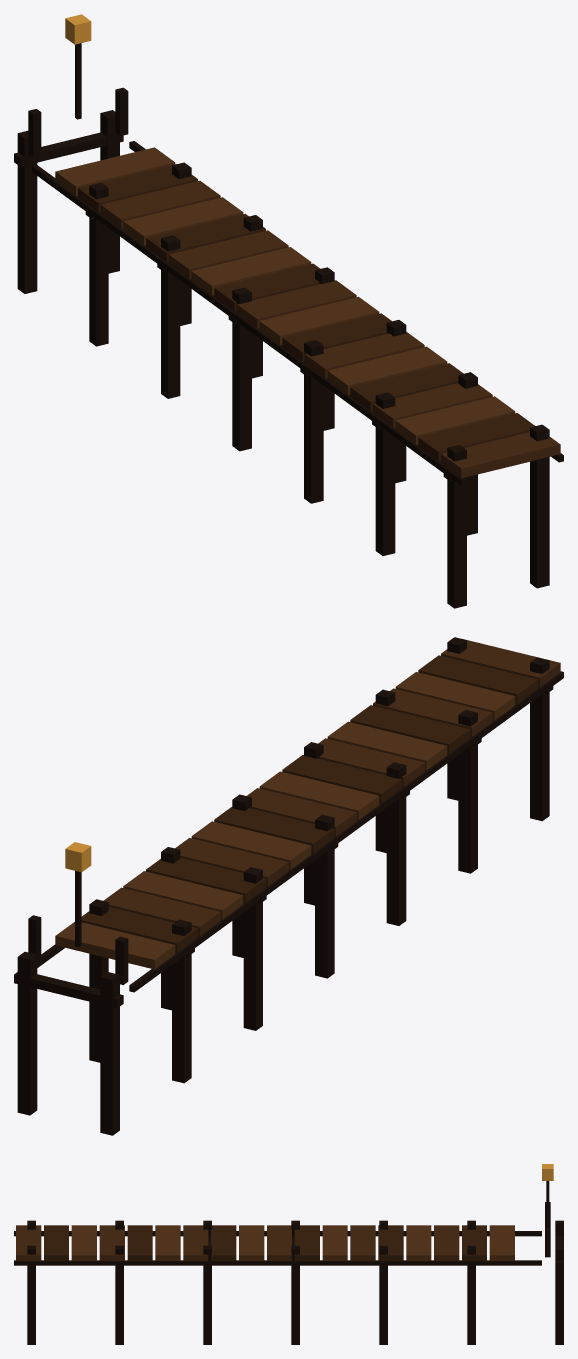
The model's file is coast-pier.glb.
3 renders of one model, top to bottom at view 1: azimuth 30°, elevation 25°; view 2: azimuth 150°, elevation 25°; view 3: azimuth 270°, elevation 25°, orthographic. The views are drawn at different scales.
Visible parts, largest first — view 1: coast-pier; view 2: coast-pier; view 3: coast-pier.
Part boxes in pixels (x1,y1,x2,y2): coast-pier: (14, 14, 563, 608); coast-pier: (14, 637, 563, 1135); coast-pier: (14, 1164, 563, 1344).
Size of the model in its own units: 2.5 by 6.17 by 18.75.
